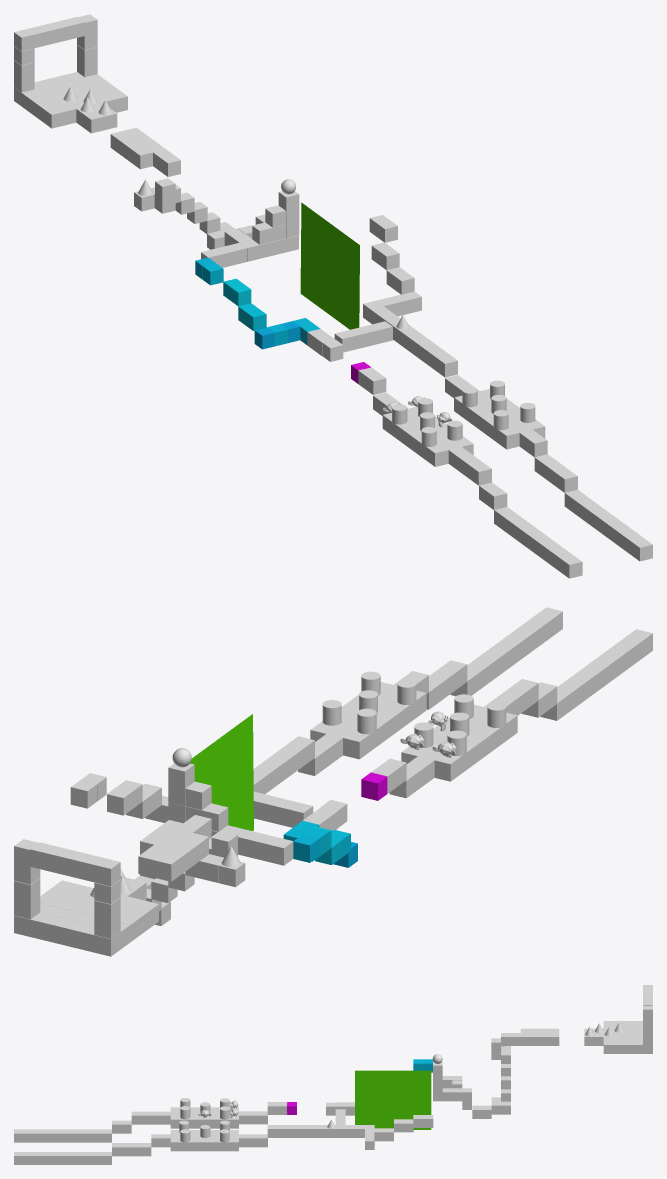
3 views of the same model, one above another, from view 1: azimuth 30°, elevation 25°; view 2: azimuth 150°, elevation 25°; view 3: azimuth 270°, elevation 25° (orthographic). The views are drawn at different scales.
Parts seen in each view (by area): view 1: 平面; view 2: 平面, Cube.080, Cube.110, Cube.111, Cube.108, Cube.209, Cube.134, Cube.161, Cube.117, Cube.069, Cube.072, Cube.132 (+3 smaller); view 3: 平面.
Part boxes in pixels (left/top/right/bottom): 平面: left=300, top=202, right=359, bottom=329; 平面: left=190, top=714, right=253, bottom=830; Cube.080: left=361, top=772, right=387, bottom=800; Cube.110: left=70, top=780, right=96, bottom=808; Cube.111: left=293, top=834, right=319, bottom=862; Cube.108: left=107, top=787, right=133, bottom=815; Cube.209: left=94, top=858, right=120, bottom=886; Cube.134: left=185, top=781, right=211, bottom=809; Cube.161: left=154, top=853, right=180, bottom=881; Cube.117: left=267, top=837, right=293, bottom=865; Cube.069: left=343, top=731, right=368, bottom=759; Cube.072: left=434, top=754, right=460, bottom=781; Cube.132: left=168, top=763, right=194, bottom=788; 平面: left=355, top=1070, right=431, bottom=1129.
Bounding box in the file's own units: 3057 × 2970 × 12966.
